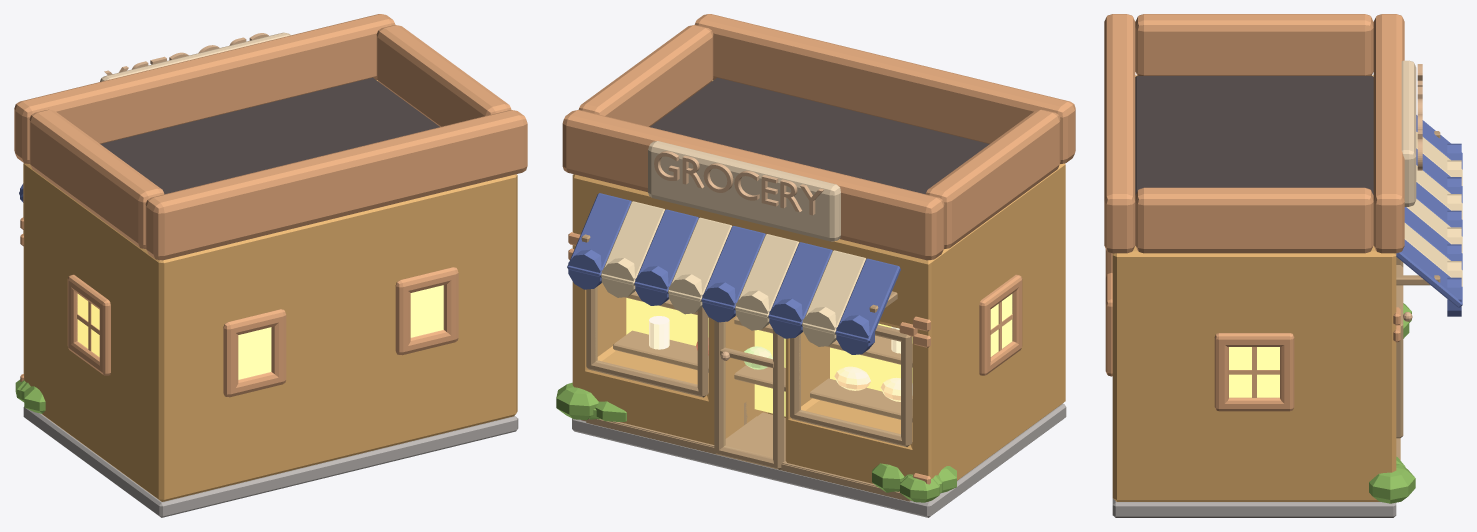
Rendered from 04-grocery-store.glb.
The picture shows the model from 3 angles, left to right: view 1: azimuth 30°, elevation 25°; view 2: azimuth 150°, elevation 25°; view 3: azimuth 270°, elevation 25°; orthographic projection. The views are drawn at different scales.
Parts seen in each view (by area): view 1: Walls, ParapetB, ParapetF, Deck, ParapetL, Slab, ParapetR, WinBackL_back, WinBackR_back, WinBackR_l, Plaque, WinBackL_r (+11 smaller); view 2: Walls, ParapetB, Deck, ParapetF, Plaque, ParapetL, WinL_glass, WinR_glass, ParapetR, Slab, Door_glass, IBacker (+41 smaller); view 3: Walls, Deck, ParapetR, ParapetL, ParapetB, ParapetF, Slab, WinSideR_back, Plaque, Stripe8, Shrub1.3_0, WinSideR_top (+15 smaller).
Part boxes in pixels (box(x1,y1,x2,y2)): Walls: box(23, 80, 517, 501); ParapetB: box(145, 110, 527, 260); ParapetF: box(14, 14, 395, 164); Deck: box(100, 77, 439, 194); ParapetL: box(29, 109, 164, 249); Slab: box(23, 406, 518, 517); ParapetR: box(376, 25, 511, 126); WinBackL_back: box(238, 327, 271, 379); WinBackR_back: box(410, 285, 443, 337); WinBackR_l: box(395, 279, 410, 355); Plaque: box(100, 32, 290, 81); WinBackL_r: box(271, 309, 286, 385); Walls: box(572, 80, 1065, 501); ParapetB: box(694, 14, 1075, 164); Deck: box(650, 77, 989, 194); ParapetF: box(562, 110, 944, 260); Plaque: box(648, 141, 840, 241); ParapetL: box(926, 109, 1060, 249); WinL_glass: box(799, 333, 900, 435); WinR_glass: box(596, 284, 696, 384); ParapetR: box(578, 25, 713, 126); Slab: box(572, 403, 1066, 517); Door_glass: box(724, 316, 772, 456); IBacker: box(626, 298, 912, 416); Walls: box(1112, 75, 1396, 501); Deck: box(1135, 76, 1373, 195); ParapetR: box(1135, 187, 1373, 253); ParapetL: box(1135, 14, 1373, 75); ParapetB: box(1104, 14, 1135, 253); ParapetF: box(1373, 14, 1404, 253); Slab: box(1112, 498, 1396, 517); WinSideR_back: box(1229, 347, 1279, 397); Plaque: box(1401, 60, 1416, 206); Stripe8: box(1396, 239, 1462, 307); Shrub1.3_0: box(1369, 463, 1415, 503); WinSideR_top: box(1214, 333, 1294, 346).
Bounding box in the file's own units: 3.24 × 2.53 × 2.53.
